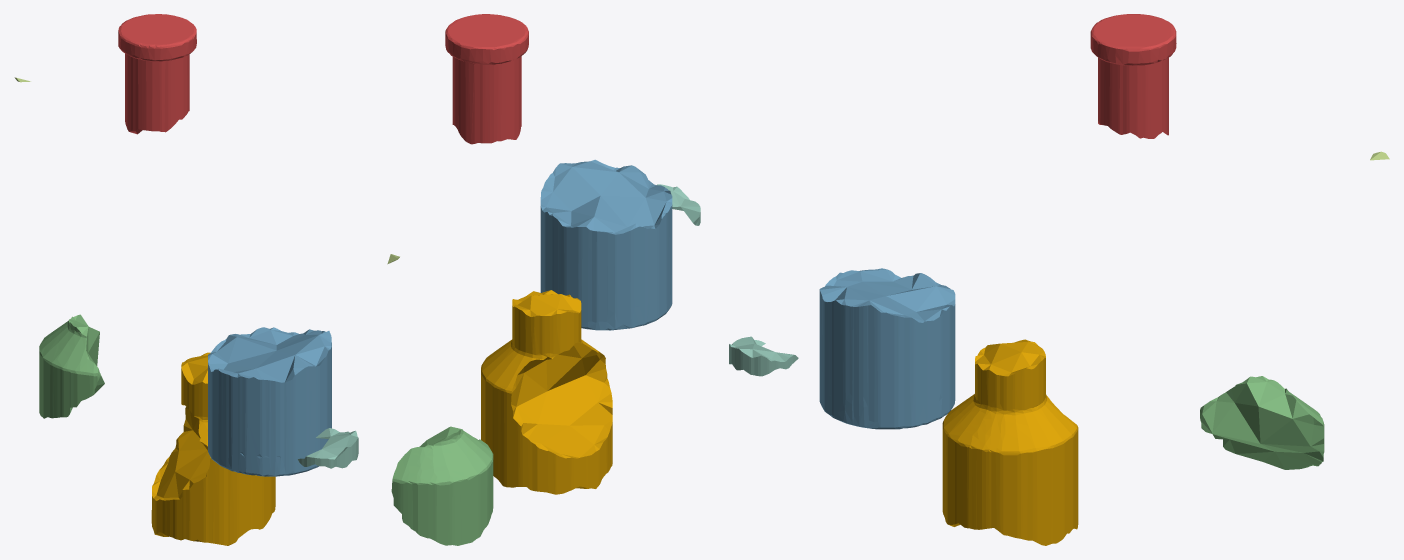
File: fractured_76_6pcs_transformed.glb
3 views of the same model, side by side, from view 1: azimuth 30°, elevation 25°; view 2: azimuth 150°, elevation 25°; view 3: azimuth 270°, elevation 25° (orthographic). The views are drawn at different scales.
Visible parts, largest first — view 1: piece_2.obj, piece_0.obj, piece_1.obj, piece_3.obj, piece_4.obj; view 2: piece_0.obj, piece_2.obj, piece_3.obj, piece_1.obj, piece_4.obj; view 3: piece_0.obj, piece_2.obj, piece_1.obj, piece_3.obj, piece_4.obj.
Part boxes in pixels (x1,y1,x2,y2): piece_2.obj: [208, 327, 331, 476]; piece_0.obj: [151, 352, 275, 545]; piece_1.obj: [118, 14, 196, 134]; piece_3.obj: [39, 314, 104, 418]; piece_4.obj: [298, 428, 358, 468]; piece_0.obj: [481, 290, 612, 494]; piece_2.obj: [540, 159, 672, 330]; piece_3.obj: [391, 426, 493, 545]; piece_1.obj: [445, 14, 528, 144]; piece_4.obj: [656, 184, 700, 225]; piece_0.obj: [942, 339, 1078, 545]; piece_2.obj: [819, 268, 955, 429]; piece_1.obj: [1090, 14, 1176, 138]; piece_3.obj: [1200, 376, 1324, 469]; piece_4.obj: [729, 336, 798, 376].
Bounding box in the file's own units: 0.3308 × 1.34 × 1.61.
